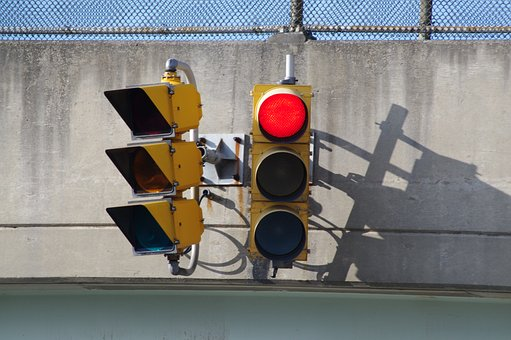trafic: (104, 78, 200, 257), (249, 83, 312, 265)
